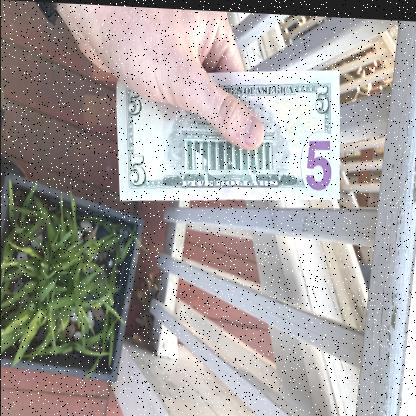five-back: (116, 69, 342, 206)
